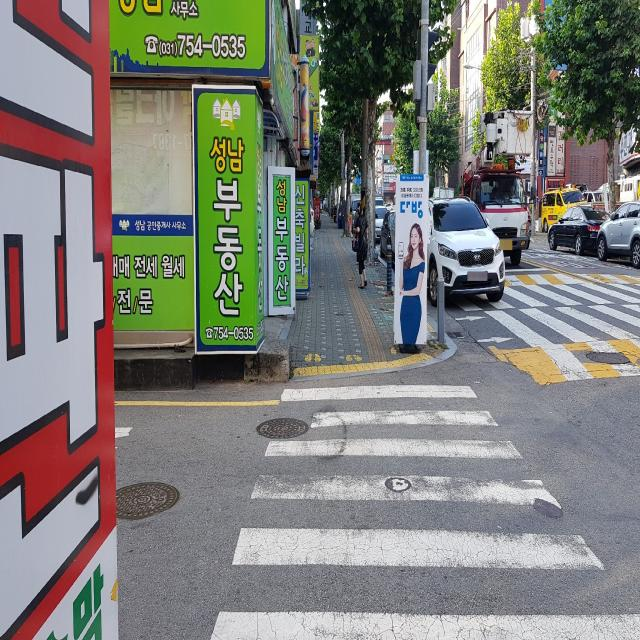횡단보도: (211, 384, 640, 640), (454, 286, 640, 349)
